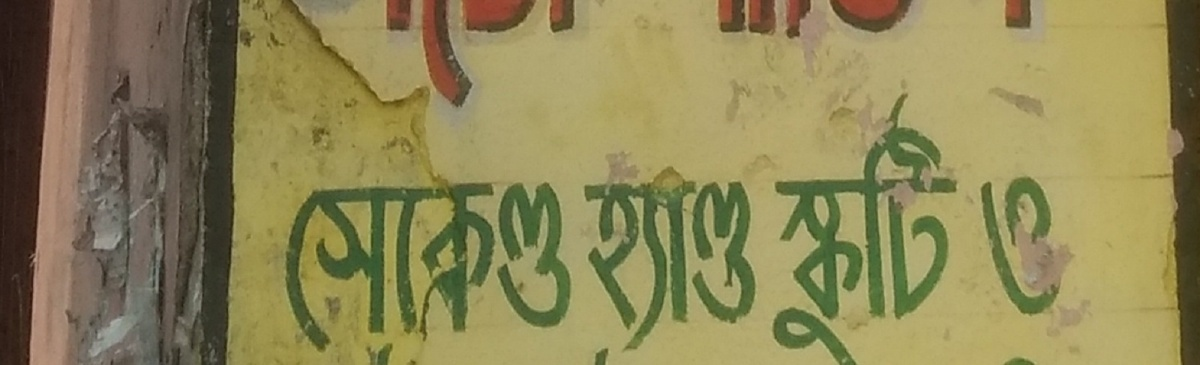text: (769, 90, 784, 365), (785, 90, 800, 365), (801, 90, 816, 365), (817, 90, 832, 365), (833, 90, 848, 365), (849, 90, 864, 365), (865, 90, 880, 365), (881, 90, 896, 365), (897, 90, 912, 365), (913, 90, 928, 365), (929, 90, 944, 365), (945, 90, 960, 365), (961, 90, 976, 365), (577, 162, 592, 358), (593, 162, 608, 358), (609, 162, 624, 358), (625, 162, 640, 358), (641, 162, 656, 358), (657, 162, 672, 358), (673, 162, 688, 358), (689, 162, 704, 358), (705, 162, 720, 358), (721, 162, 736, 358), (737, 162, 752, 358), (753, 162, 768, 358), (289, 178, 304, 354), (305, 178, 320, 354), (321, 178, 336, 354), (337, 178, 352, 354), (353, 178, 368, 354), (369, 178, 384, 354), (385, 178, 400, 354), (401, 178, 416, 354), (417, 178, 432, 354), (433, 178, 448, 354), (449, 178, 464, 354), (465, 178, 480, 354), (481, 178, 496, 354), (497, 178, 512, 354), (513, 178, 528, 354), (529, 178, 544, 354), (545, 178, 560, 354), (561, 178, 576, 354), (977, 172, 992, 321), (993, 172, 1008, 321), (1009, 172, 1024, 321), (1025, 172, 1040, 321), (1041, 172, 1056, 321), (1057, 172, 1072, 321), (760, 90, 768, 365), (561, 2, 577, 114), (278, 178, 288, 354), (385, 2, 400, 114), (401, 2, 416, 114), (417, 2, 432, 114), (433, 2, 448, 114), (449, 2, 464, 114), (465, 2, 480, 114), (481, 2, 496, 114), (497, 2, 512, 114), (513, 2, 528, 114), (529, 2, 544, 114), (545, 2, 560, 114), (977, 90, 980, 365), (721, 1, 736, 42), (737, 1, 752, 42), (753, 1, 768, 42), (769, 1, 784, 42), (785, 1, 800, 42), (801, 1, 816, 42), (817, 1, 832, 42), (833, 1, 848, 42), (849, 1, 864, 42), (865, 1, 880, 42), (881, 1, 896, 42), (897, 1, 912, 42), (573, 162, 576, 358), (379, 2, 384, 114), (1009, 1, 1024, 33), (973, 172, 976, 321), (385, 338, 400, 365), (1025, 1, 1035, 33), (1073, 172, 1075, 321), (999, 1, 1008, 33), (593, 345, 608, 364), (715, 1, 720, 42), (1009, 354, 1024, 365), (1025, 354, 1040, 365), (913, 1, 917, 42), (609, 345, 614, 364), (383, 338, 384, 365), (1006, 354, 1008, 365)
